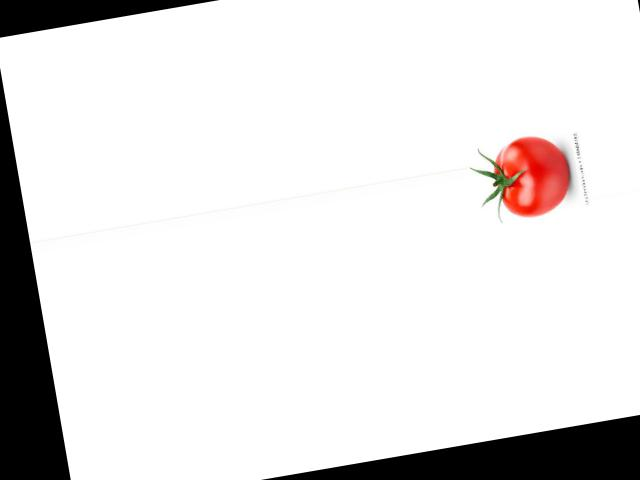tomato: (489, 130, 574, 221)
